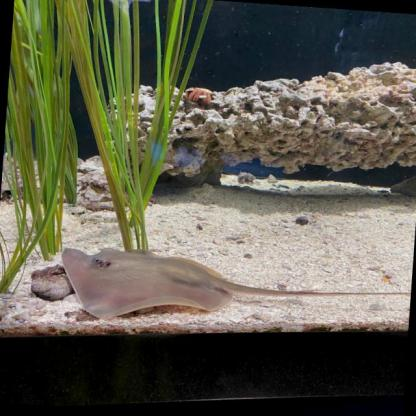stingray: (56, 245, 236, 328)
